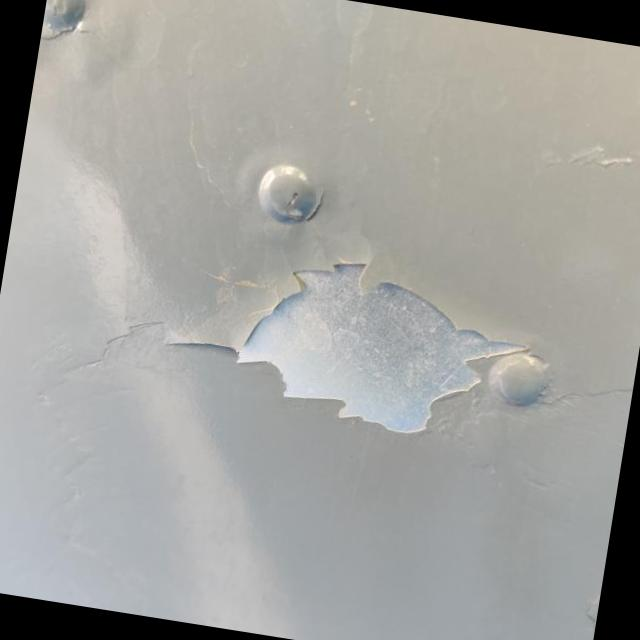Paint-off: (238, 264, 526, 434)
